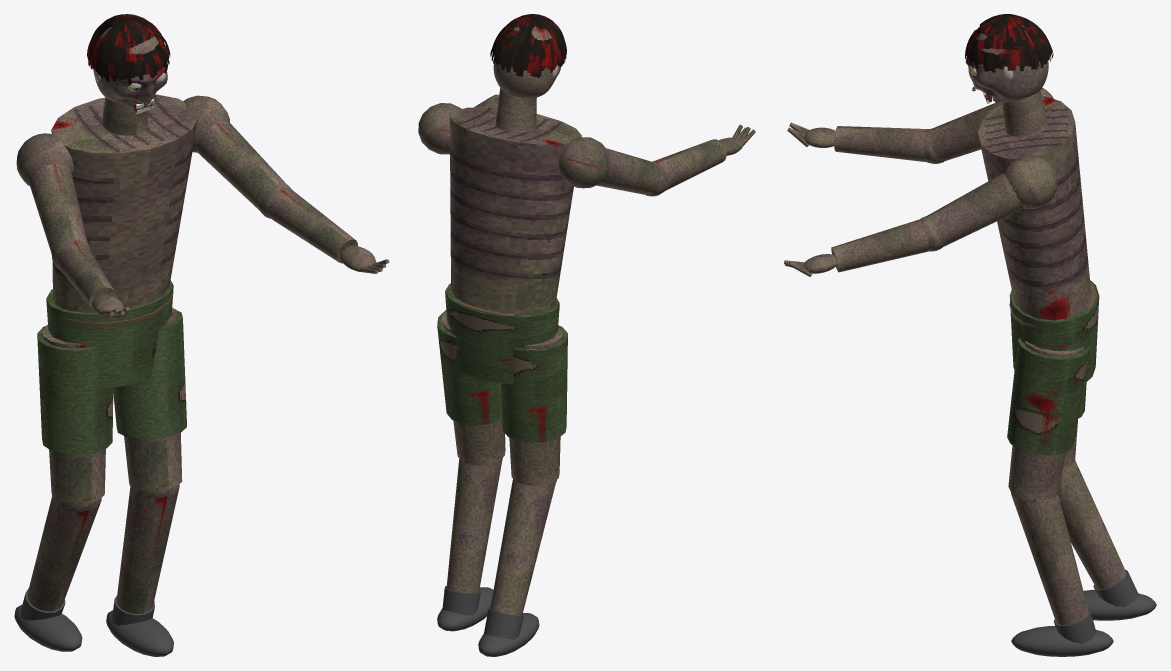
The model's file is Zombie_128.glb.
3 renders of one model, left to right at view 1: azimuth 30°, elevation 25°; view 2: azimuth 150°, elevation 25°; view 3: azimuth 270°, elevation 25°, orthographic. The views are drawn at different scales.
Visible parts, largest first — view 1: Zombie_128, object 43, object 10, object 3, object 16, object 11; view 2: Zombie_128, object 43, object 3, object 16; view 3: Zombie_128, object 43, object 10, object 3, object 16, object 42, object 4.
Boxes of the visible parts, left/top/right/bottom form: Zombie_128: left=14, top=94, right=285, bottom=656; object 43: left=87, top=14, right=170, bottom=83; object 10: left=267, top=188, right=357, bottom=263; object 3: left=56, top=241, right=116, bottom=308; object 16: left=93, top=27, right=167, bottom=107; object 11: left=340, top=246, right=376, bottom=271; Zombie_128: left=418, top=88, right=663, bottom=656; object 43: left=490, top=14, right=566, bottom=75; object 3: left=652, top=139, right=726, bottom=190; object 16: left=493, top=26, right=560, bottom=98; Zombie_128: left=927, top=87, right=1156, bottom=656; object 43: left=965, top=14, right=1053, bottom=69; object 10: left=831, top=219, right=929, bottom=272; object 3: left=834, top=126, right=928, bottom=161; object 16: left=965, top=25, right=1048, bottom=103; object 42: left=968, top=22, right=1051, bottom=72; object 4: left=804, top=127, right=835, bottom=147.
Bounding box in the file's own units: 0.773 × 1.75 × 0.9559.
Materials: 16 (6 with a texture image).
